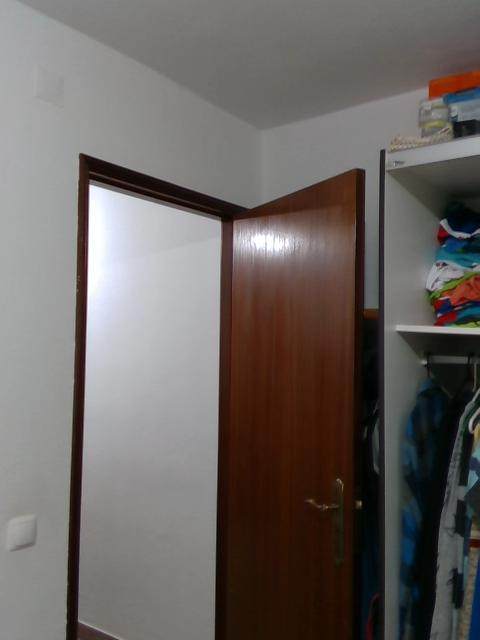open_door: (63, 147, 276, 639)
